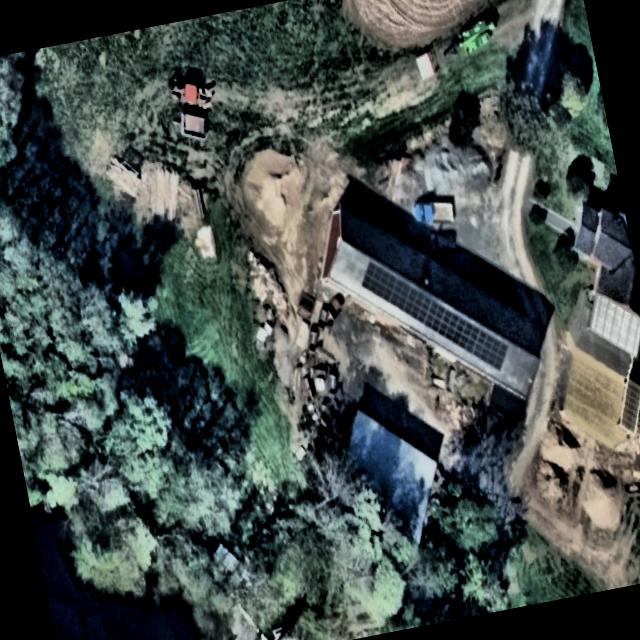roof_pv: (445, 301, 513, 378), (356, 251, 418, 323), (410, 284, 457, 344)
